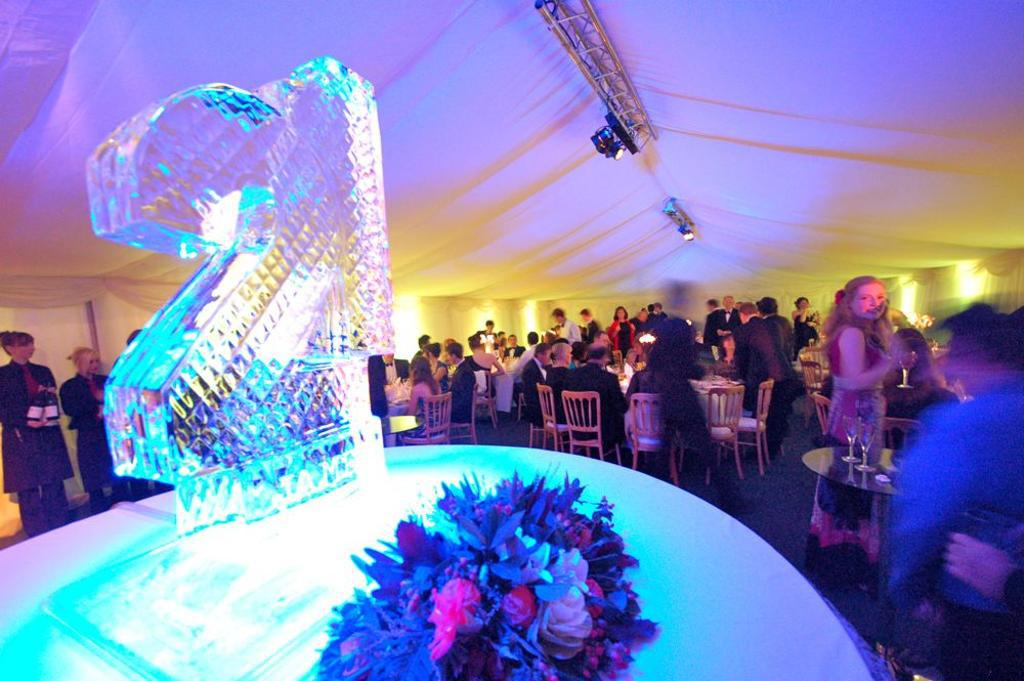face: (853, 285, 886, 320), (15, 341, 35, 357), (84, 356, 99, 373), (446, 349, 454, 366), (422, 347, 430, 363), (600, 334, 609, 347), (564, 349, 573, 362), (725, 339, 735, 350), (725, 298, 734, 309), (633, 343, 641, 355), (800, 301, 810, 309), (618, 309, 624, 317), (510, 338, 516, 346), (554, 315, 560, 323), (654, 304, 659, 312), (487, 324, 493, 330)
